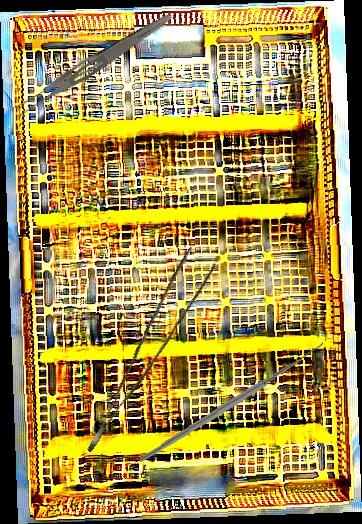Dressing Forceps: (11, 5, 175, 122)
Hook Surgical: (135, 331, 328, 464)
Tissue Forceps: (55, 245, 227, 453)
